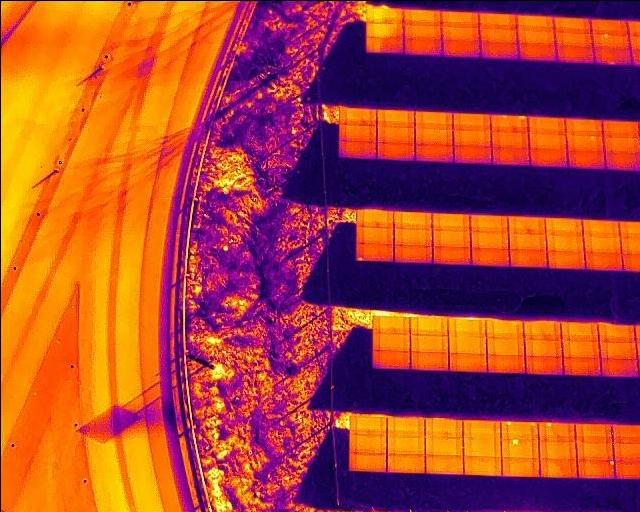Cell: (500, 438, 538, 458), (355, 242, 393, 261), (537, 421, 575, 440), (575, 460, 614, 478), (566, 135, 604, 150), (590, 32, 629, 46)
Cell-Multi: (489, 113, 527, 131), (499, 420, 538, 437)
No-Anomaly: (424, 453, 462, 474), (348, 450, 386, 471), (410, 350, 448, 370), (463, 455, 501, 475), (386, 453, 424, 473), (500, 457, 539, 476), (413, 110, 452, 129), (371, 348, 410, 367), (392, 243, 431, 262), (409, 333, 448, 352), (385, 416, 424, 435), (562, 356, 600, 375), (524, 337, 562, 356), (462, 435, 500, 454), (424, 417, 462, 436), (447, 353, 487, 371), (538, 458, 575, 477), (573, 423, 610, 442), (470, 248, 509, 266), (485, 336, 524, 354), (386, 435, 425, 453), (600, 358, 638, 376), (508, 249, 546, 267), (432, 245, 470, 263), (561, 339, 599, 357), (546, 250, 584, 268), (448, 335, 486, 353), (574, 441, 612, 459), (372, 315, 409, 333), (598, 323, 635, 341), (538, 440, 575, 458), (349, 433, 386, 451), (375, 141, 414, 158), (592, 45, 631, 62), (485, 354, 524, 371), (516, 42, 554, 59), (338, 139, 376, 156), (567, 149, 605, 166), (393, 211, 431, 228), (355, 209, 393, 226), (507, 216, 545, 233), (469, 231, 507, 248), (432, 229, 470, 246), (355, 226, 393, 243), (602, 119, 640, 136), (452, 114, 490, 131), (462, 419, 500, 436), (605, 150, 640, 168), (599, 341, 636, 358), (339, 106, 376, 123), (582, 235, 619, 252), (581, 219, 618, 236), (410, 316, 447, 333), (583, 252, 620, 269), (525, 356, 562, 373), (425, 436, 462, 453), (349, 416, 386, 433), (484, 319, 523, 335), (544, 235, 583, 251), (393, 228, 432, 244), (452, 146, 491, 162), (561, 322, 597, 339), (402, 38, 440, 54), (371, 333, 409, 349), (564, 119, 602, 135), (527, 117, 565, 133), (490, 147, 528, 163), (414, 128, 452, 144), (376, 126, 414, 142), (527, 132, 565, 148), (414, 143, 452, 159), (528, 148, 566, 164), (431, 213, 469, 229), (523, 321, 561, 337), (507, 233, 545, 249), (469, 215, 507, 231), (402, 8, 440, 24), (365, 37, 402, 53), (339, 123, 376, 139), (545, 218, 582, 234), (446, 319, 485, 334), (440, 41, 479, 56), (365, 22, 404, 37), (555, 46, 593, 61), (376, 111, 414, 126), (490, 132, 528, 147), (602, 135, 640, 150), (452, 130, 490, 145), (553, 30, 591, 45), (588, 18, 628, 32), (479, 41, 516, 56), (441, 11, 478, 26), (610, 425, 640, 443), (515, 29, 553, 43), (477, 27, 515, 41), (440, 26, 478, 40), (514, 14, 552, 28), (478, 12, 516, 26), (552, 16, 588, 30), (366, 7, 402, 21), (612, 442, 640, 460), (403, 24, 439, 37), (614, 460, 640, 477)
